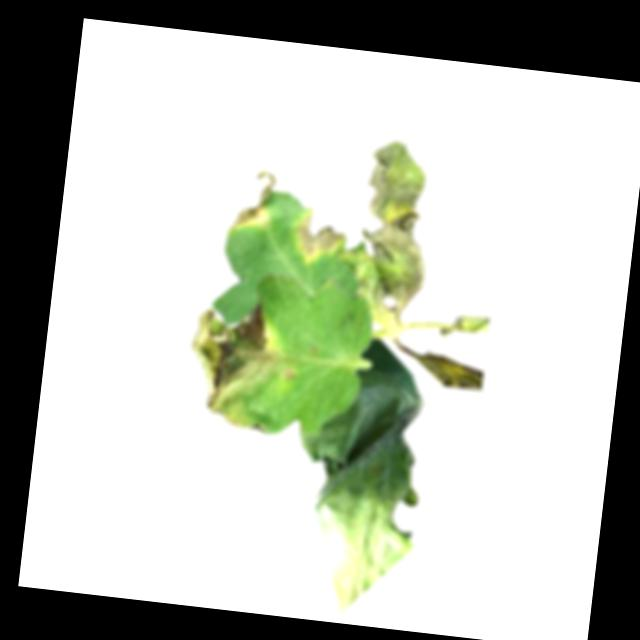Late_blight: (284, 331, 440, 621), (337, 137, 437, 325), (182, 295, 282, 432), (228, 168, 279, 233), (293, 206, 348, 260)
